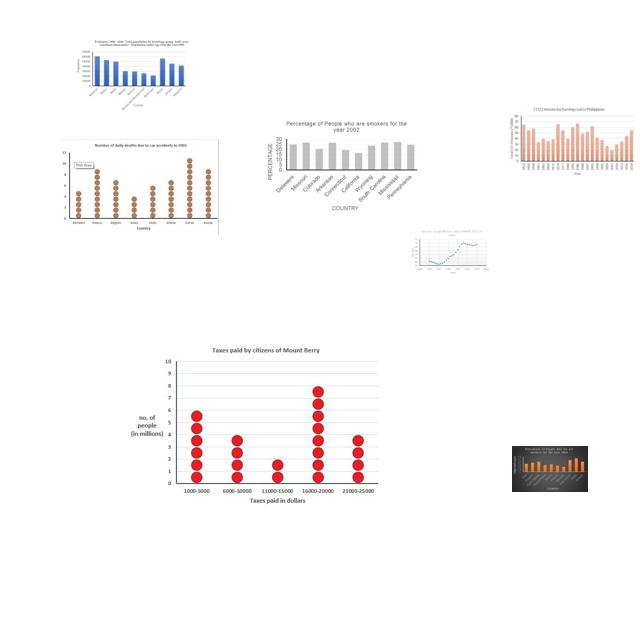Graph: (123, 341, 383, 511), (60, 139, 219, 235), (264, 118, 422, 214), (508, 106, 636, 178), (75, 39, 194, 111), (409, 228, 490, 275), (512, 446, 588, 492)
